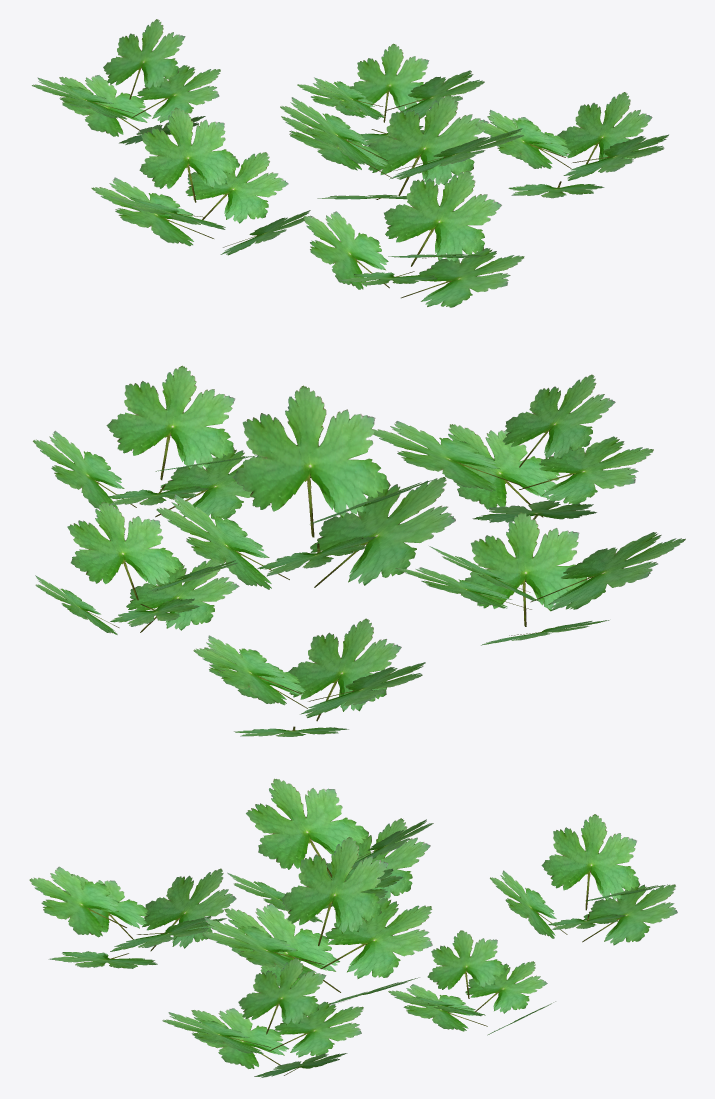
File: GroundFoliage2-2.fbx
3 views of the same model, one above another, from view 1: azimuth 30°, elevation 25°; view 2: azimuth 150°, elevation 25°; view 3: azimuth 270°, elevation 25° (orthographic). The views are drawn at different scales.
Parts seen in each view (by area): view 1: GroundFoliage2-2; view 2: GroundFoliage2-2; view 3: GroundFoliage2-2.
Part boxes in pixels (x1=…): GroundFoliage2-2: x1=32, y1=19, x2=668, y2=307; GroundFoliage2-2: x1=33, y1=365, x2=685, y2=736; GroundFoliage2-2: x1=29, y1=778, x2=677, y2=1077.
Size of the model in its own units: 140 by 28.02 by 151.
